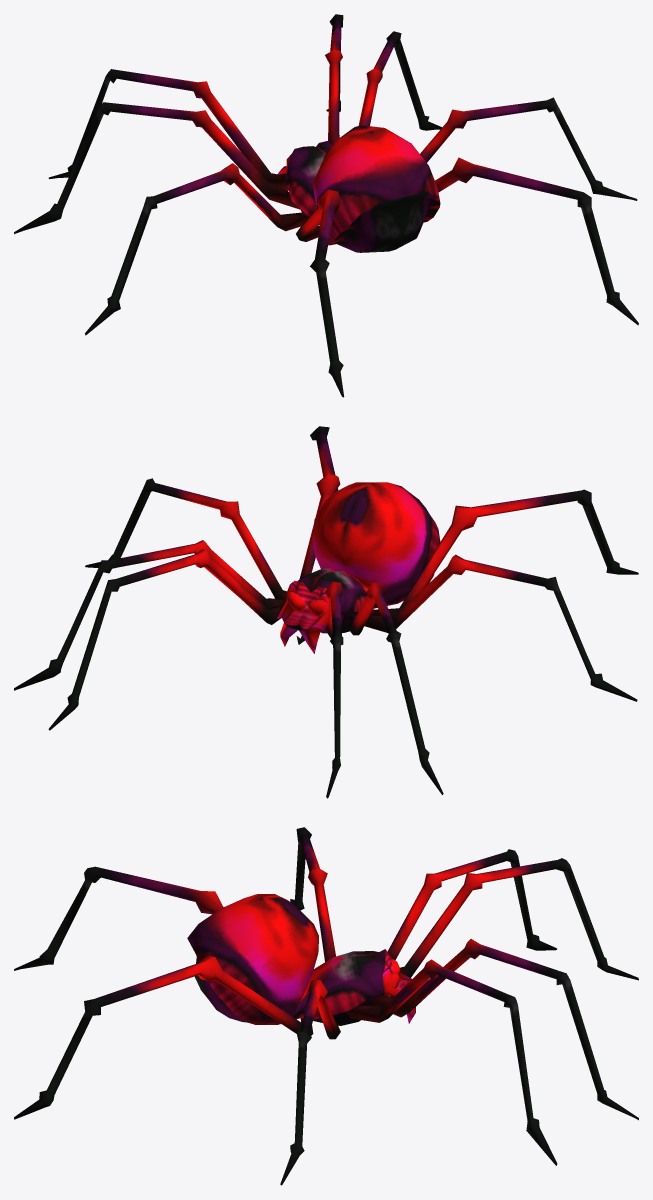
File: CHAR_SPID_POISON_RED.obj
3 renders of one model, top to bottom at view 1: azimuth 30°, elevation 25°; view 2: azimuth 150°, elevation 25°; view 3: azimuth 270°, elevation 25°, orthographic. The views are drawn at different scales.
Parts seen in each view (by area): view 1: Sphere03; view 2: Sphere03; view 3: Sphere03.
Part boxes in pixels (left/top/right/bottom): Sphere03: left=14, top=14, right=638, bottom=397; Sphere03: left=14, top=426, right=638, bottom=798; Sphere03: left=14, top=827, right=638, bottom=1185.
Size of what is drawn, in the model's own units: 199 by 53.59 by 189.
